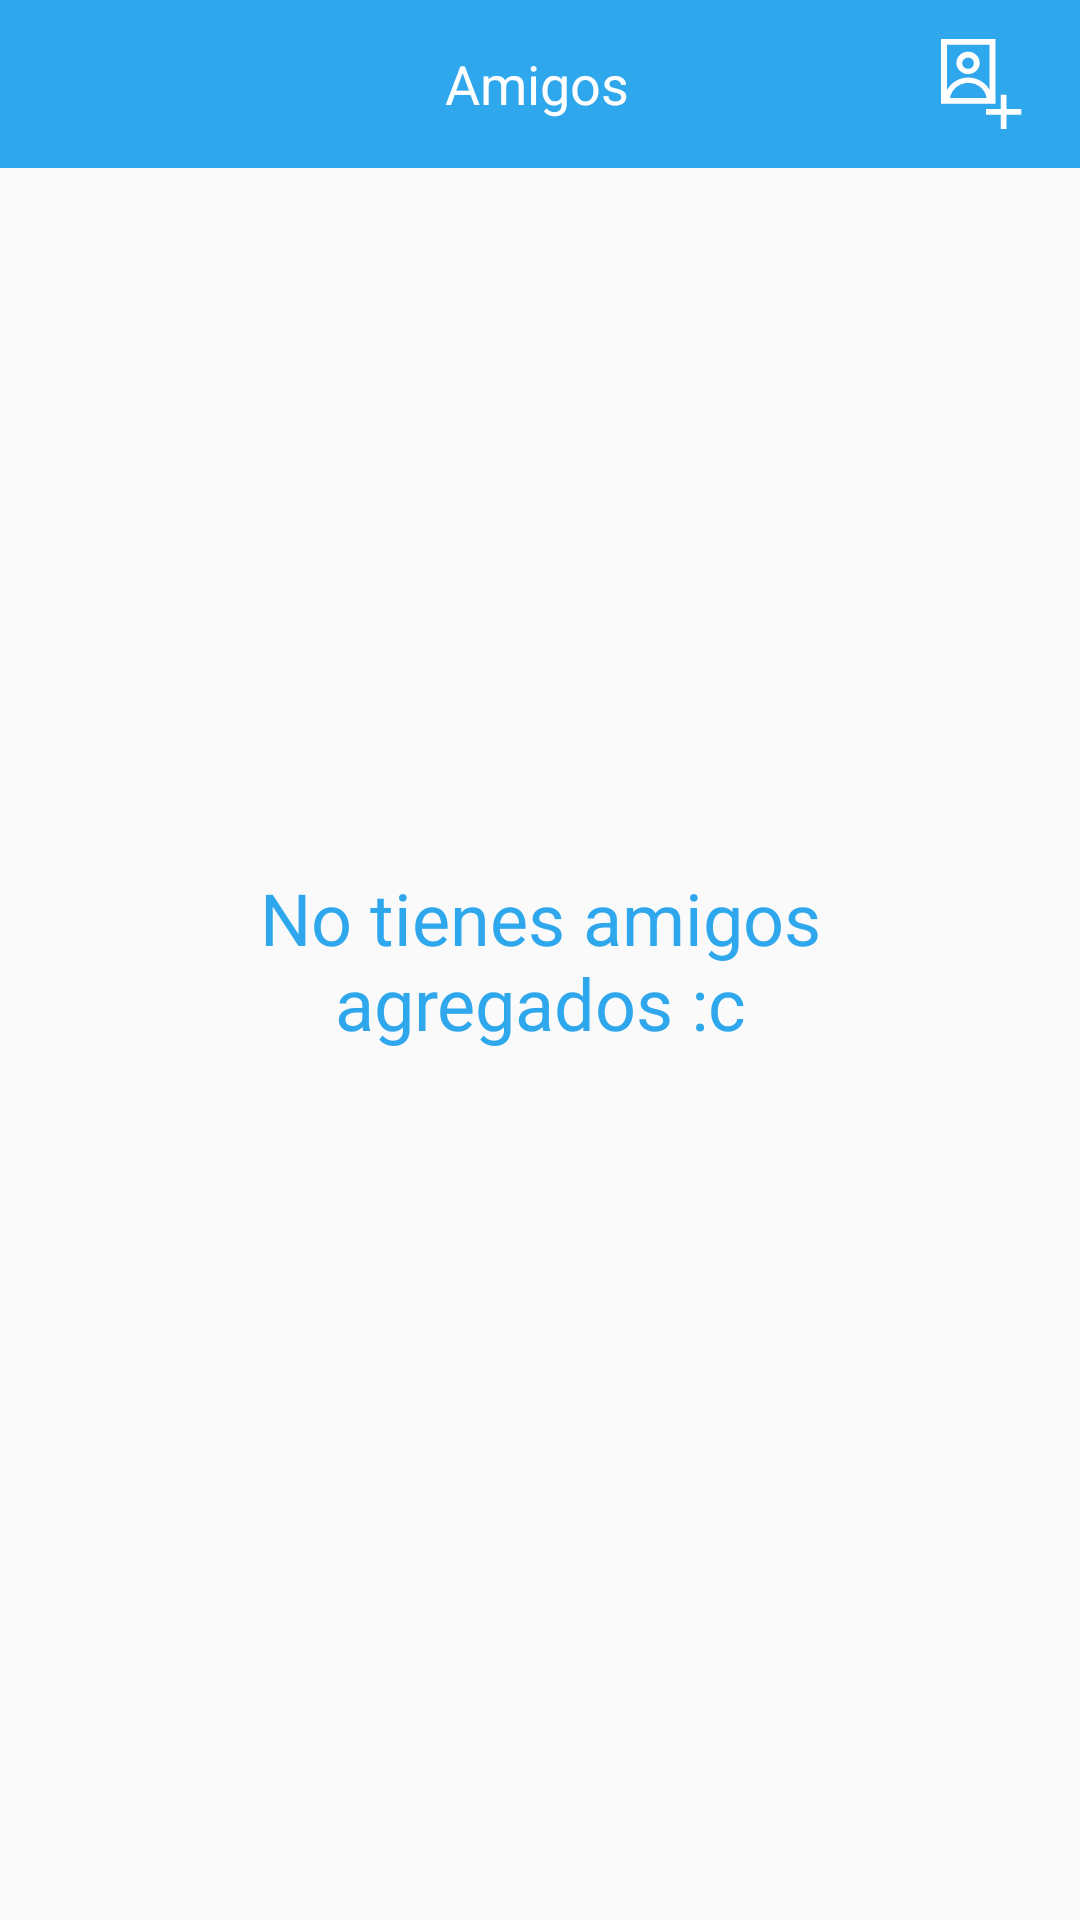

Icons on this 1080*1920 Android screen, each with its box as (x1,y1,x2,y2):
add friends: (941,39,1022,129)
